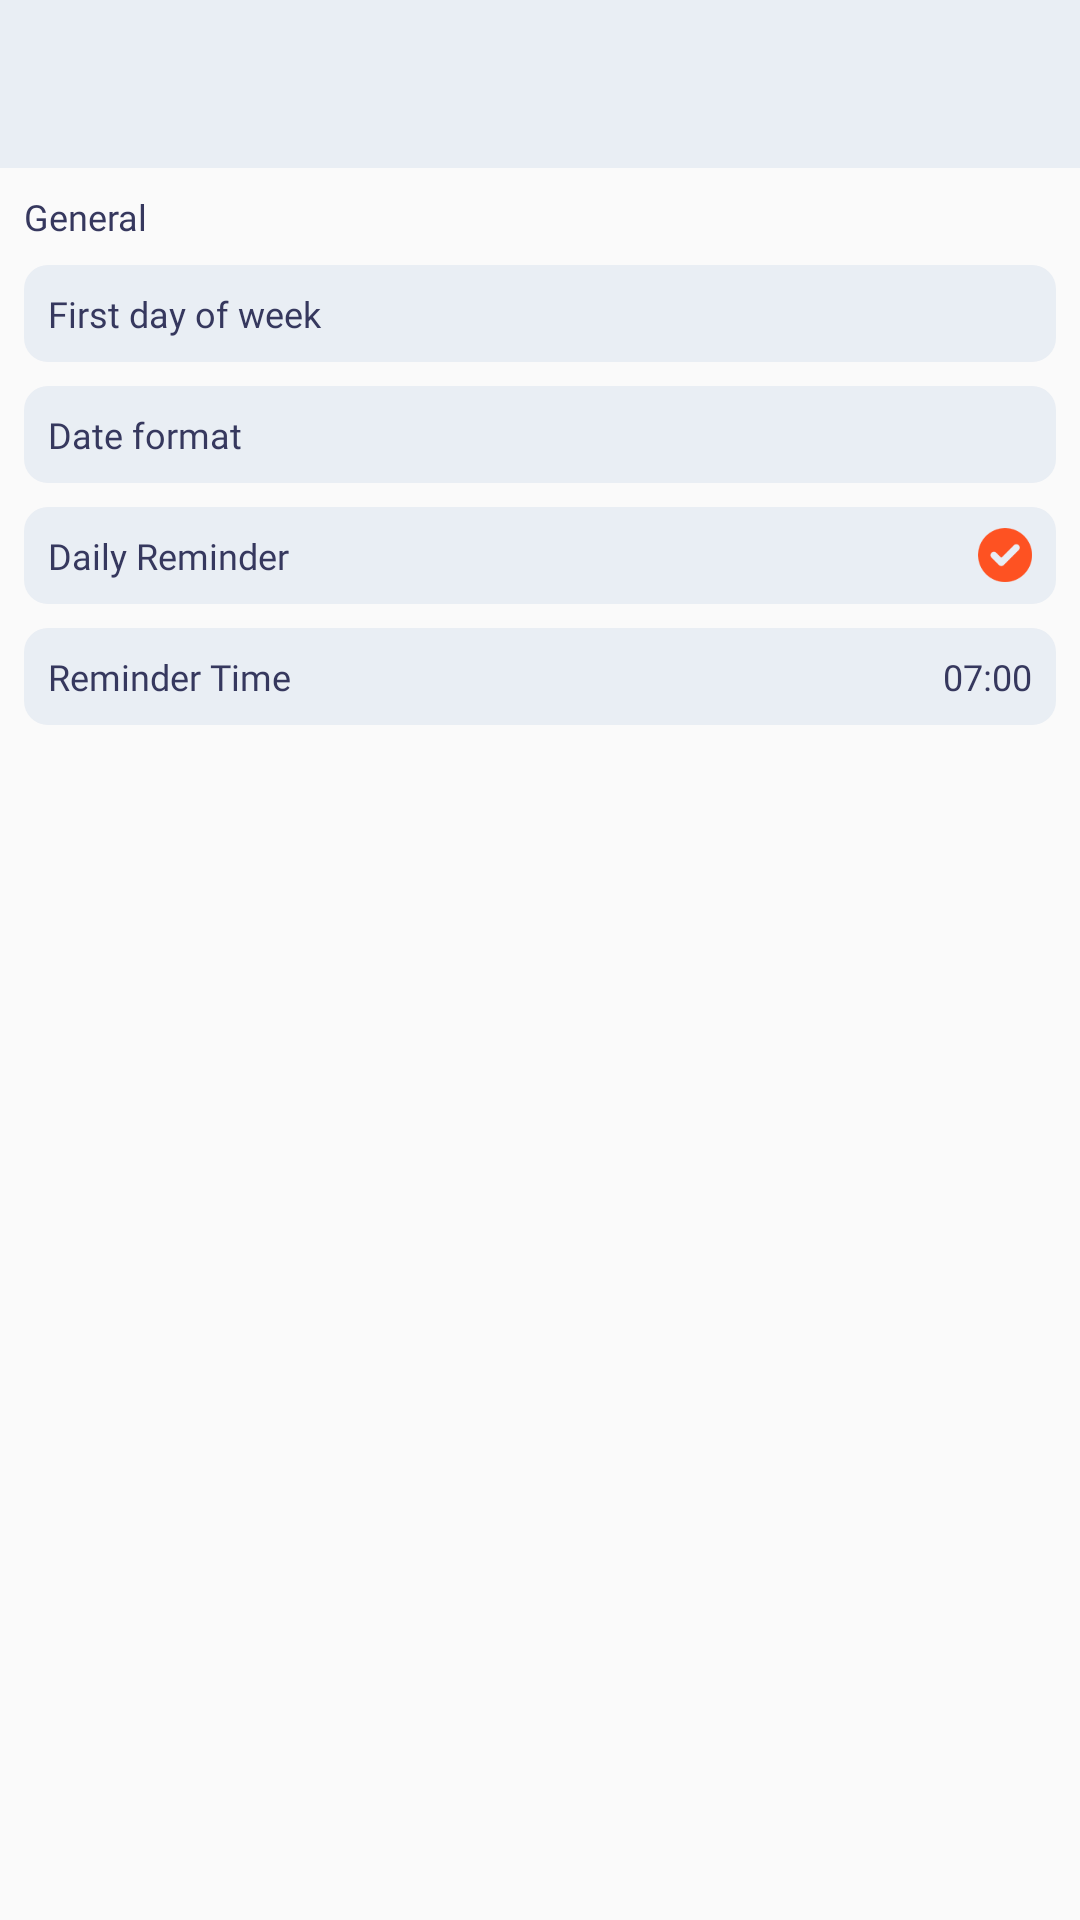

Where icons sit on this 1080*1920 app screen, as (x1, y1, x2, y2):
custom checkbox: (978, 528, 1032, 582)
